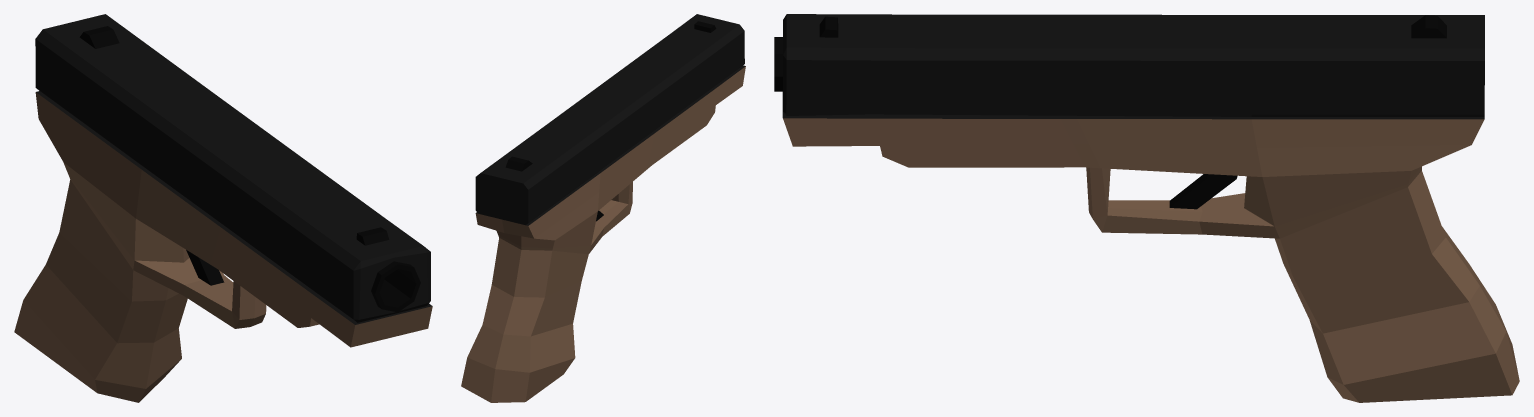
The model's file is gun_v1.fbx.
The picture shows the model from 3 angles, left to right: view 1: azimuth 30°, elevation 25°; view 2: azimuth 150°, elevation 25°; view 3: azimuth 270°, elevation 25°; orthographic projection. The views are drawn at different scales.
Visible parts, largest first — view 1: Cube, Circle, Cube.002, Cube.004, Cube.003; view 2: Cube, Cube.002; view 3: Cube, Cube.004, Cube.002.
Boxes of the visible parts, x1=… form: Cube: x1=14, y1=14, x2=432, y2=402; Circle: x1=371, y1=261, x2=420, y2=312; Cube.002: x1=79, y1=26, x2=119, y2=48; Cube.004: x1=186, y1=250, x2=224, y2=285; Cube.003: x1=356, y1=227, x2=389, y2=245; Cube: x1=461, y1=14, x2=745, y2=402; Cube.002: x1=505, y1=156, x2=532, y2=171; Cube: x1=782, y1=14, x2=1519, y2=402; Cube.004: x1=1169, y1=174, x2=1237, y2=209; Cube.002: x1=1411, y1=15, x2=1446, y2=38.
Bounding box in the file's own units: 78.86 × 272 × 489.
